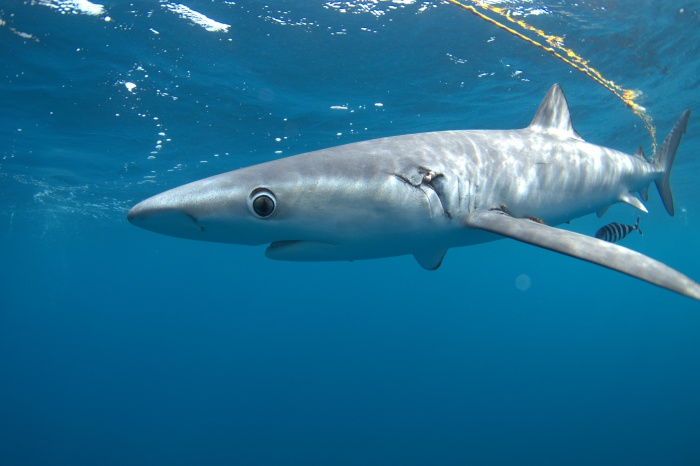Azul: (118, 71, 700, 304)
